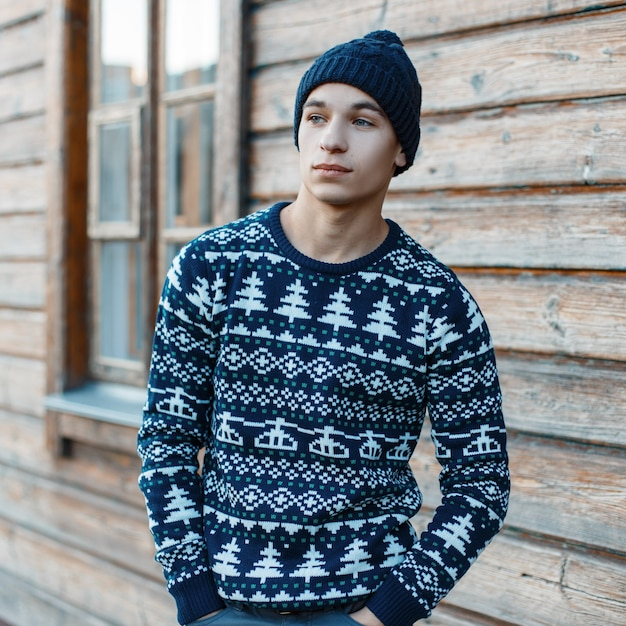young: (292, 60, 410, 205)
